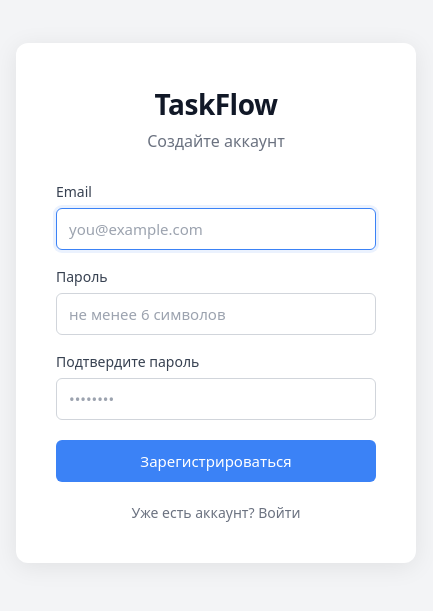
Test case: RegisterForm — валидация › показывает ошибку при пустом email
What coordinates should you click on to do the following:
click the button "Зарегистрироваться"
I would click on:
 (216, 461)
Its box is [56,440,376,482].
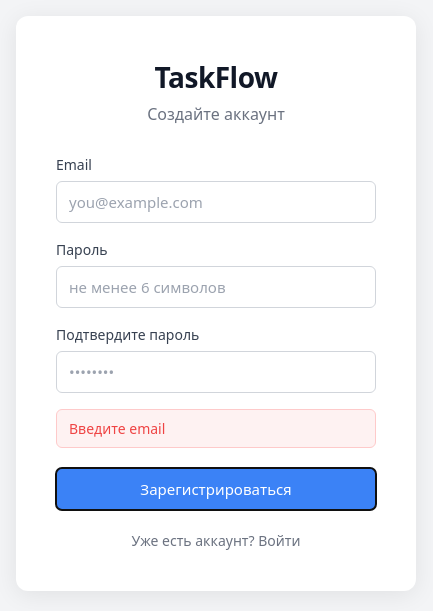
Now the message reads "Введите email", box [69,418,165,438]
